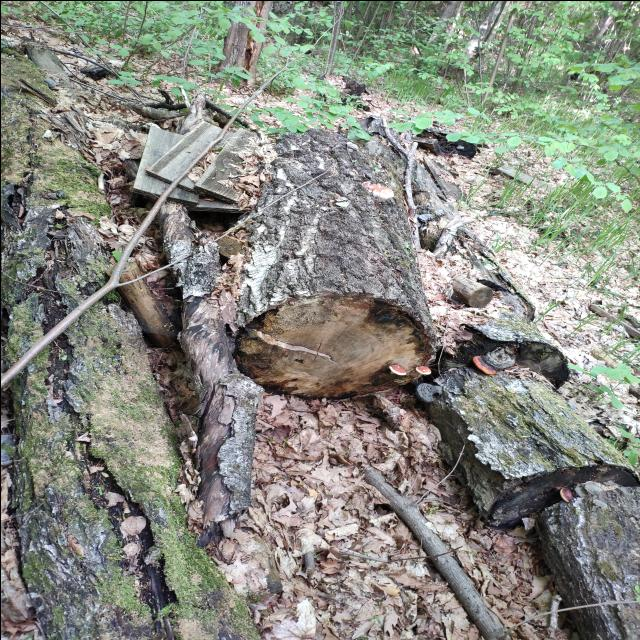restos de madeira: (232, 124, 435, 402), (414, 305, 640, 529), (414, 234, 568, 382), (523, 478, 640, 640), (158, 210, 260, 390), (349, 111, 473, 242), (184, 366, 259, 546), (4, 280, 119, 388), (504, 594, 640, 630), (140, 92, 259, 132), (102, 250, 202, 288), (58, 72, 158, 108), (26, 44, 120, 77), (1, 264, 82, 294), (362, 113, 413, 158), (3, 20, 102, 40), (248, 536, 280, 597), (310, 585, 373, 613), (449, 274, 494, 306), (339, 548, 394, 564), (431, 226, 458, 256), (374, 580, 401, 596), (302, 547, 315, 573)
